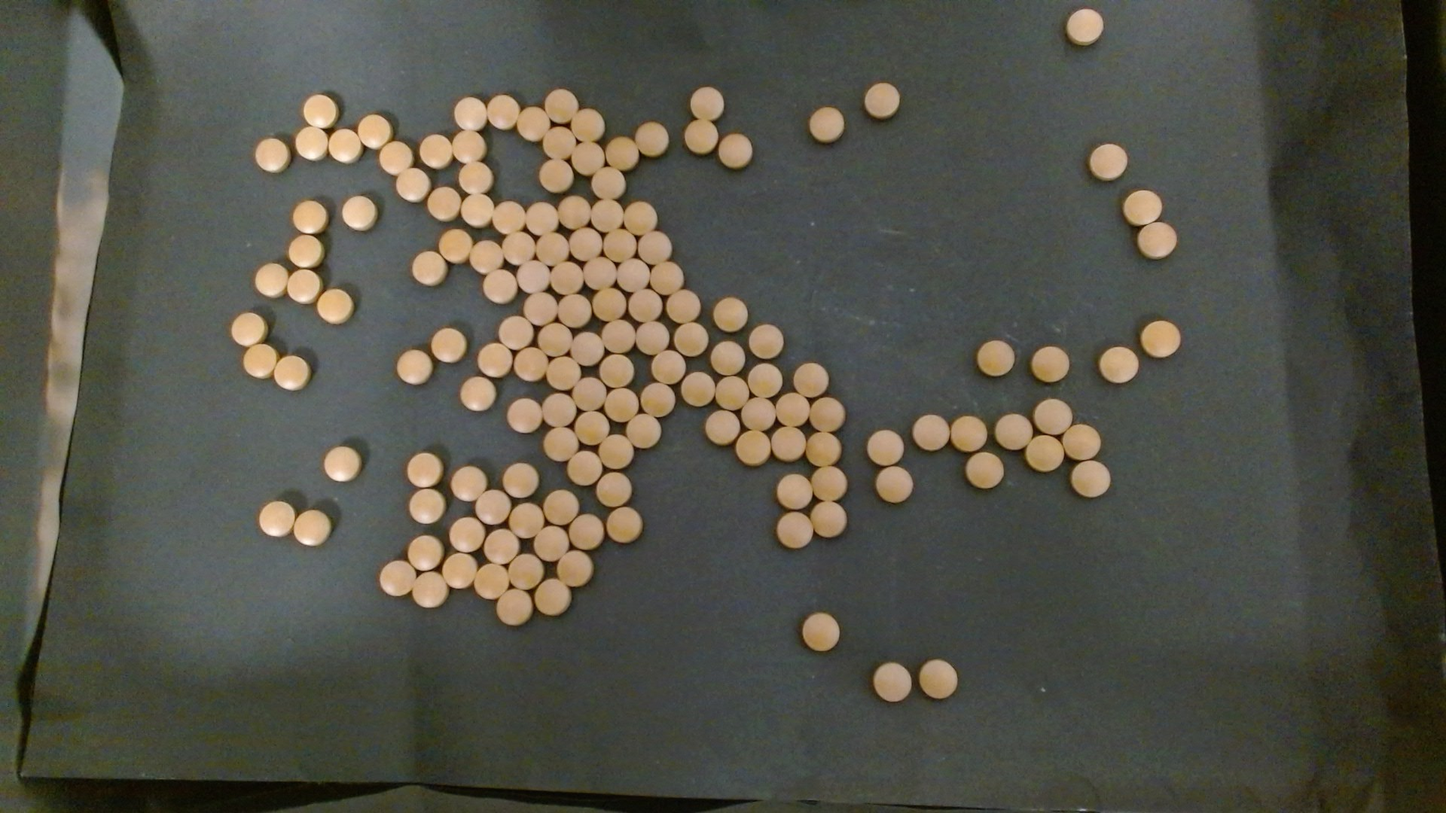Circle: (1069, 459, 1112, 498), (1087, 142, 1129, 181), (1139, 319, 1181, 358), (918, 659, 958, 699), (872, 662, 912, 702), (322, 444, 362, 483), (801, 612, 840, 652), (1137, 221, 1178, 259), (1097, 346, 1139, 383), (1033, 397, 1072, 436), (378, 559, 417, 598), (874, 466, 914, 504), (1023, 434, 1063, 472), (258, 499, 296, 538), (293, 508, 331, 547), (911, 414, 950, 452), (1122, 188, 1162, 225), (1061, 423, 1101, 460), (1064, 8, 1104, 45), (775, 512, 813, 550), (994, 412, 1032, 450), (495, 588, 533, 626), (1030, 345, 1069, 382), (965, 452, 1004, 489), (809, 501, 848, 538), (534, 578, 571, 617), (976, 340, 1014, 377), (866, 429, 904, 466), (775, 473, 813, 510), (450, 464, 487, 502), (410, 572, 448, 609), (316, 288, 355, 324), (863, 81, 900, 118), (408, 488, 445, 525), (341, 194, 378, 231), (406, 451, 443, 488), (950, 415, 987, 452), (459, 376, 496, 413), (410, 250, 447, 287), (273, 355, 311, 391), (290, 199, 328, 235), (606, 506, 642, 544), (395, 349, 432, 385), (717, 132, 753, 169), (230, 310, 267, 346), (431, 326, 467, 363), (712, 296, 748, 333), (735, 429, 771, 466), (474, 489, 511, 525), (502, 462, 538, 499), (407, 535, 444, 571), (596, 472, 633, 508), (557, 550, 593, 587), (484, 528, 520, 565), (811, 465, 848, 501), (598, 434, 635, 470), (568, 513, 604, 550), (808, 107, 844, 143), (254, 137, 290, 173), (243, 343, 279, 379), (792, 361, 828, 397), (506, 397, 542, 433), (441, 553, 477, 589), (771, 425, 807, 461), (507, 553, 543, 589), (710, 340, 746, 376), (774, 392, 810, 428), (508, 502, 544, 538), (570, 376, 606, 412), (541, 392, 577, 428), (523, 291, 559, 327), (253, 262, 288, 299), (287, 233, 324, 268), (449, 516, 484, 553), (805, 430, 842, 465), (327, 127, 362, 163), (302, 93, 338, 128), (395, 166, 430, 202), (705, 409, 740, 445), (633, 121, 668, 157), (740, 397, 776, 432), (808, 396, 844, 431), (378, 140, 413, 176), (544, 489, 579, 525), (567, 450, 602, 486), (532, 525, 568, 560), (515, 258, 550, 294), (634, 320, 670, 355), (498, 315, 533, 351), (569, 330, 603, 367), (287, 268, 322, 303), (683, 119, 718, 154), (689, 85, 724, 120), (748, 323, 783, 358), (357, 113, 392, 148), (452, 96, 487, 131), (418, 134, 453, 169), (451, 128, 486, 163), (599, 353, 634, 388), (673, 321, 708, 356), (714, 375, 749, 410), (638, 229, 673, 264), (570, 140, 605, 175), (649, 260, 684, 295), (628, 288, 663, 323), (483, 268, 517, 304), (477, 342, 511, 378), (460, 192, 494, 228), (538, 157, 572, 193), (459, 160, 493, 196), (651, 349, 685, 385), (601, 318, 635, 354), (615, 257, 649, 293), (294, 126, 328, 161), (681, 371, 715, 406), (474, 563, 508, 598), (427, 186, 461, 221), (575, 410, 609, 445), (543, 427, 578, 461), (438, 228, 473, 262), (749, 362, 783, 397), (570, 107, 604, 142), (590, 165, 625, 199), (542, 125, 576, 160), (491, 200, 525, 235), (590, 197, 624, 232), (535, 230, 569, 265), (537, 322, 571, 357), (524, 201, 558, 236), (557, 292, 590, 328), (569, 225, 602, 261), (502, 230, 535, 266), (640, 382, 674, 416), (666, 290, 700, 324), (592, 287, 626, 321), (469, 239, 503, 273), (514, 345, 548, 379), (626, 413, 659, 448), (545, 88, 578, 123), (557, 195, 590, 230), (551, 260, 584, 295), (605, 389, 639, 422), (605, 136, 639, 169), (623, 200, 656, 234), (602, 228, 636, 261), (547, 356, 580, 390), (584, 256, 617, 290), (487, 93, 518, 129), (517, 106, 549, 139)
